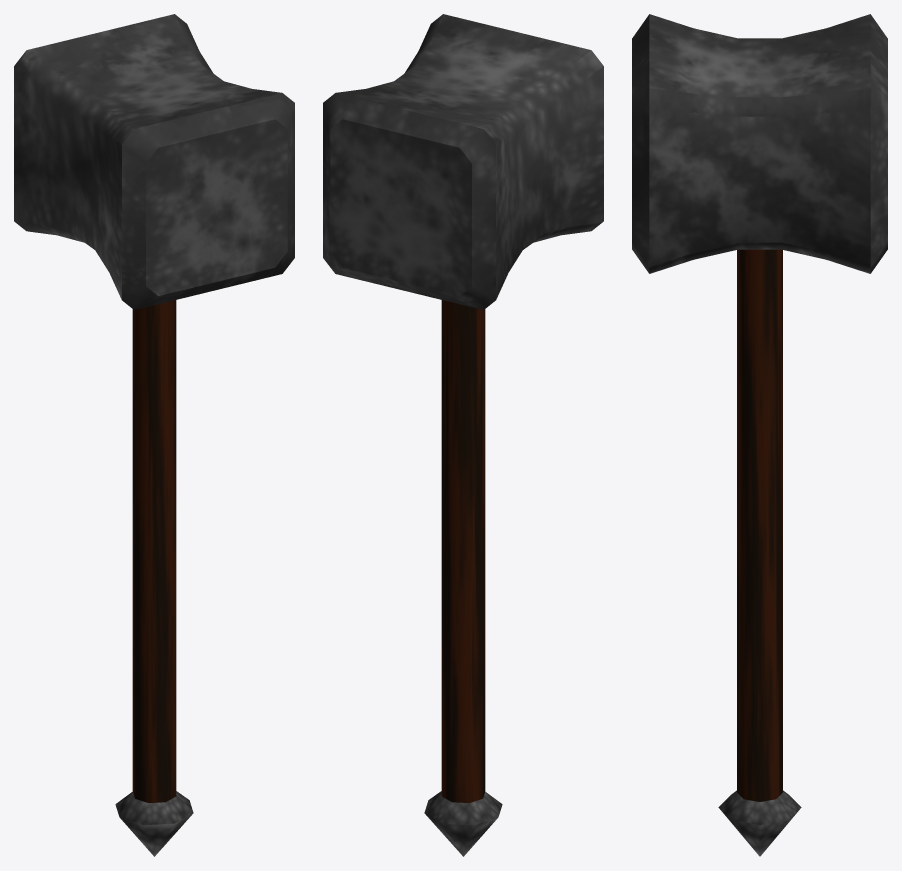
File: PimpkinBulkerHammer.fbx
The picture shows the model from 3 angles, left to right: view 1: azimuth 30°, elevation 25°; view 2: azimuth 150°, elevation 25°; view 3: azimuth 270°, elevation 25°; orthographic projection. The views are drawn at different scales.
Parts seen in each view (by area): view 1: Cube.056, Cylinder.001; view 2: Cube.056, Cylinder.001; view 3: Cube.056, Cylinder.001.
Boxes of the visible parts, bbox=[...] form: Cube.056: bbox=[14, 14, 294, 309]; Cylinder.001: bbox=[115, 300, 193, 856]; Cube.056: bbox=[323, 14, 603, 309]; Cylinder.001: bbox=[424, 300, 502, 856]; Cube.056: bbox=[632, 14, 887, 273]; Cylinder.001: bbox=[718, 249, 801, 856].
Size of the model in its own units: 124 by 538 by 155.
